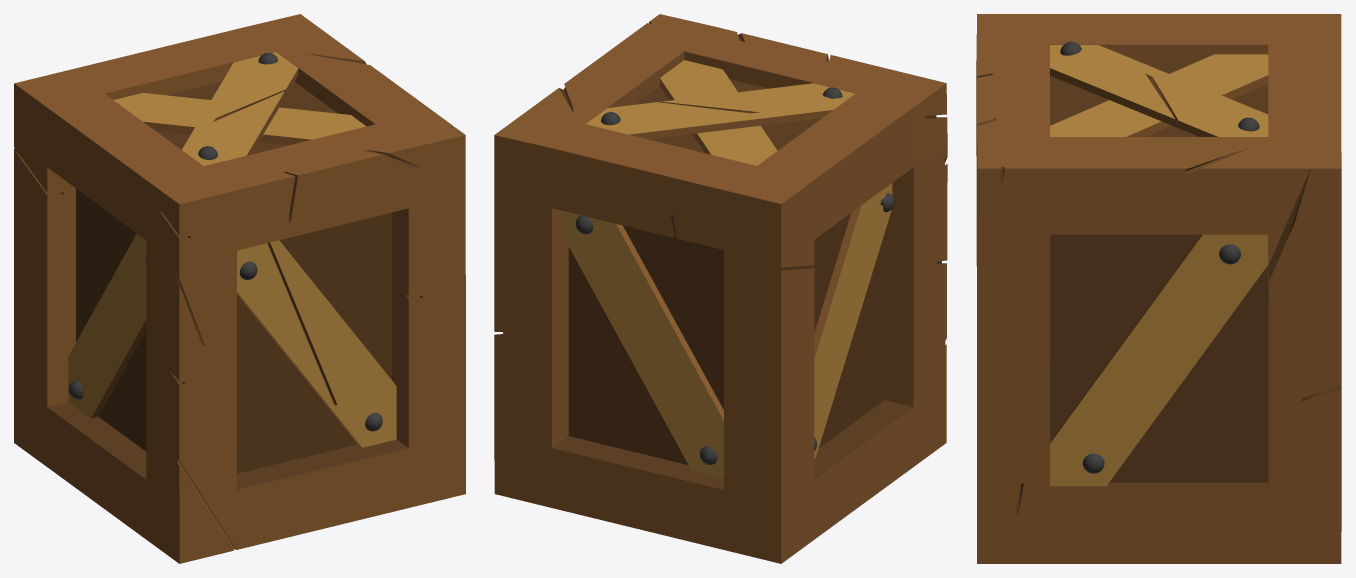
The model's file is WoodenBox.fbx.
The picture shows the model from 3 angles, left to right: view 1: azimuth 30°, elevation 25°; view 2: azimuth 150°, elevation 25°; view 3: azimuth 270°, elevation 25°; orthographic projection. The views are drawn at different scales.
Parts seen in each view (by area): view 1: Base; view 2: Base; view 3: Base.
Part boxes in pixels (<box>): Base: <box>14,14,465,563</box>; Base: <box>494,14,947,563</box>; Base: <box>976,14,1341,563</box>.
Bounding box in the file's own units: 251 × 307 × 251.
